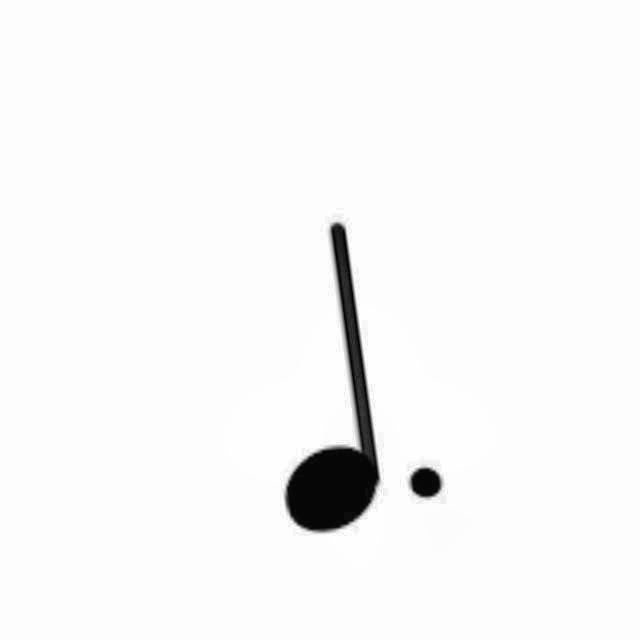Quarter-dot: (257, 205, 463, 547)
